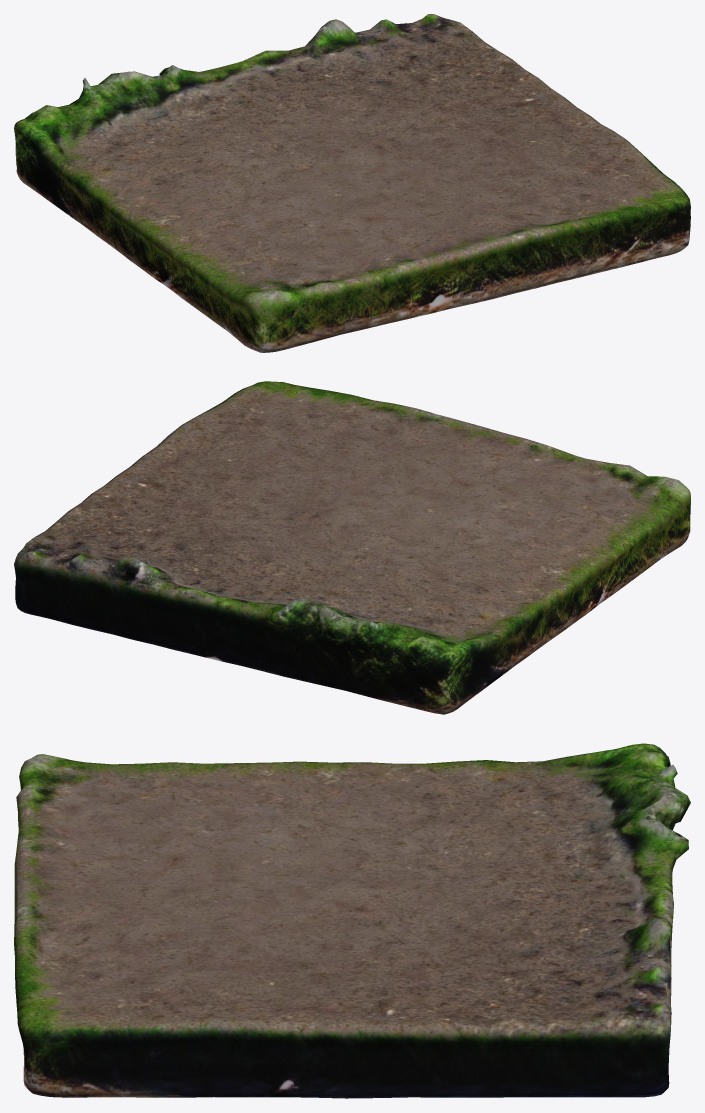
The model's file is 41afa7e2ebc7_ground_min.fbx.
The picture shows the model from 3 angles, top to bottom: view 1: azimuth 30°, elevation 25°; view 2: azimuth 150°, elevation 25°; view 3: azimuth 270°, elevation 25°; orthographic projection. The views are drawn at different scales.
Visible parts, largest first — view 1: mesh; view 2: mesh; view 3: mesh.
Boxes of the visible parts, left/top/right/bottom form: mesh: left=14, top=14, right=690, bottom=352; mesh: left=14, top=381, right=690, bottom=714; mesh: left=14, top=743, right=690, bottom=1098.
Size of the model in its own units: 99.04 by 17.25 by 99.69.
